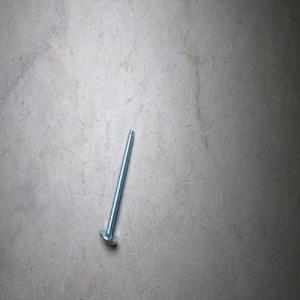Bolt: (98, 127, 135, 246)
